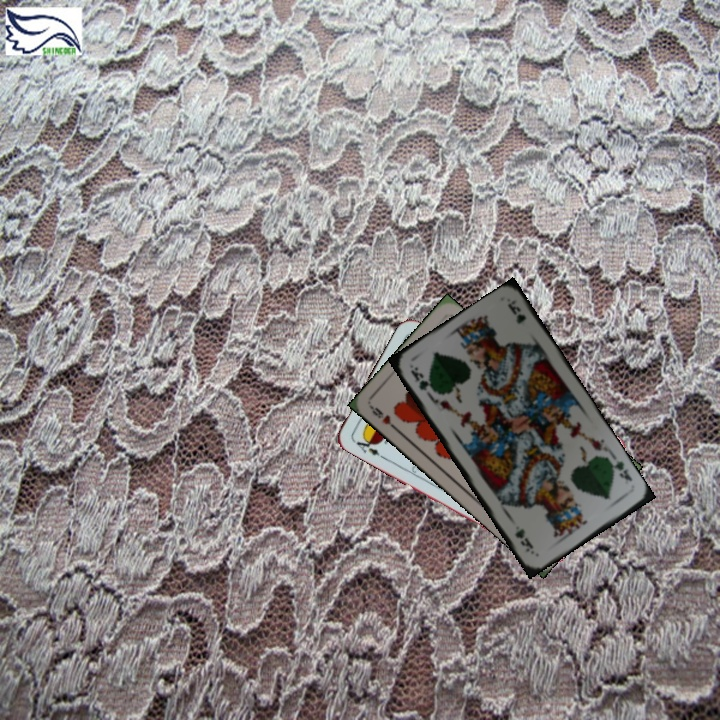EA: (349, 433, 386, 461)
GK: (406, 363, 437, 395), (606, 457, 635, 484)
H9: (367, 402, 401, 433)
